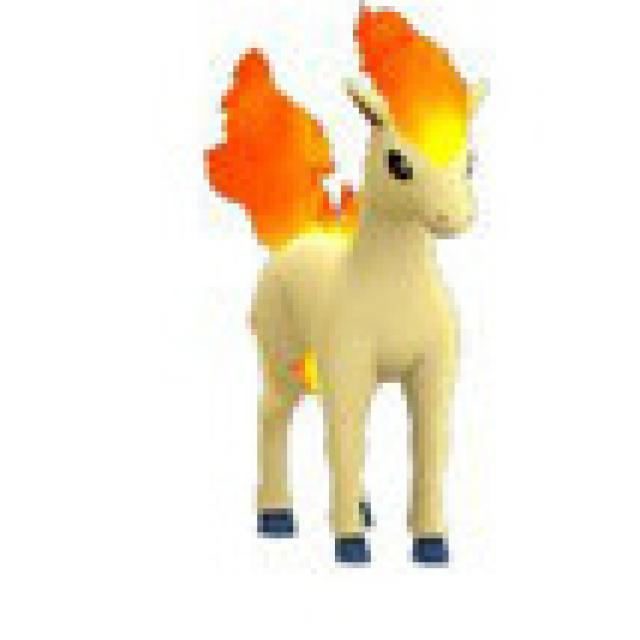Rapidash: (220, 10, 493, 575)
